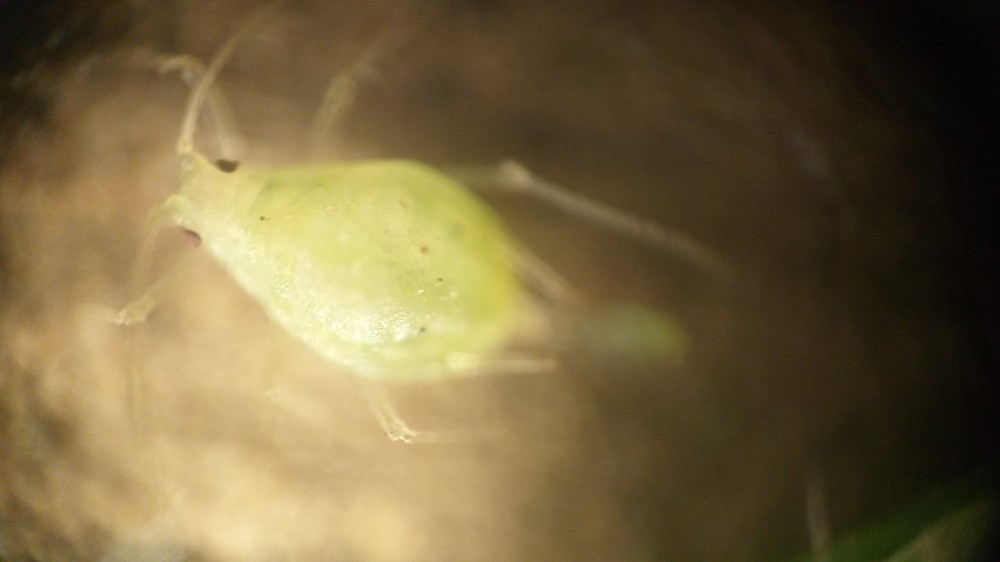Pulgon: (91, 33, 742, 485)
